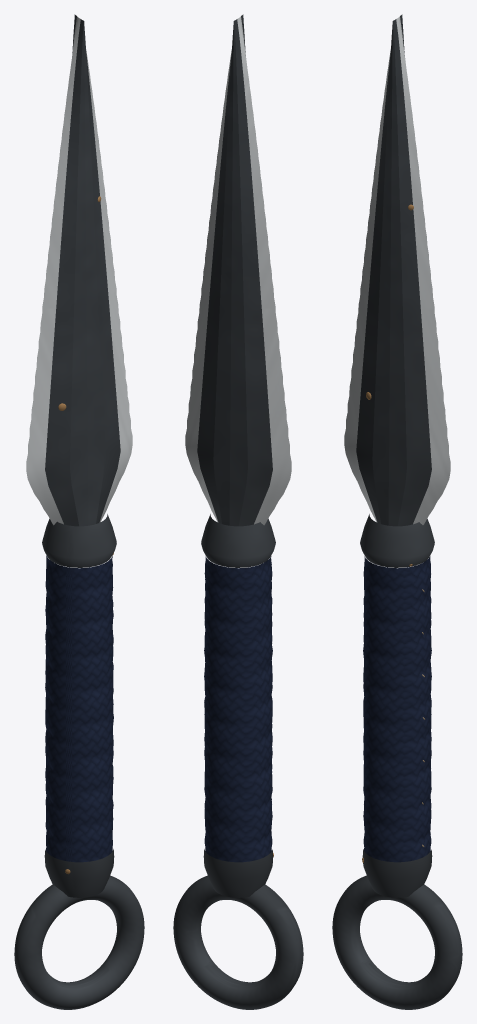
File: kunai.glb
3 renders of one model, left to right at view 1: azimuth 30°, elevation 25°; view 2: azimuth 150°, elevation 25°; view 3: azimuth 330°, elevation 25°, orthographic.
Parts seen in each view (by area): view 1: darksteel / oil-blackened fittings, cord / waxed silk cord wrap, edge / honed bright bevel; view 2: darksteel / oil-blackened fittings, cord / waxed silk cord wrap, edge / honed bright bevel; view 3: darksteel / oil-blackened fittings, cord / waxed silk cord wrap, edge / honed bright bevel.
Boxes of the visible parts, x1,y1,x2,y2 form: darksteel / oil-blackened fittings: (14,14,144,1009); cord / waxed silk cord wrap: (45,555,113,862); edge / honed bright bevel: (26,16,132,525); darksteel / oil-blackened fittings: (173,14,303,1009); cord / waxed silk cord wrap: (204,556,272,862); edge / honed bright bevel: (185,16,291,525); darksteel / oil-blackened fittings: (332,14,462,1009); cord / waxed silk cord wrap: (363,556,431,862); edge / honed bright bevel: (344,16,450,524).
Bounding box in the file's own units: 0.047 × 0.3505 × 0.024.
5 materials, 3 textured.
